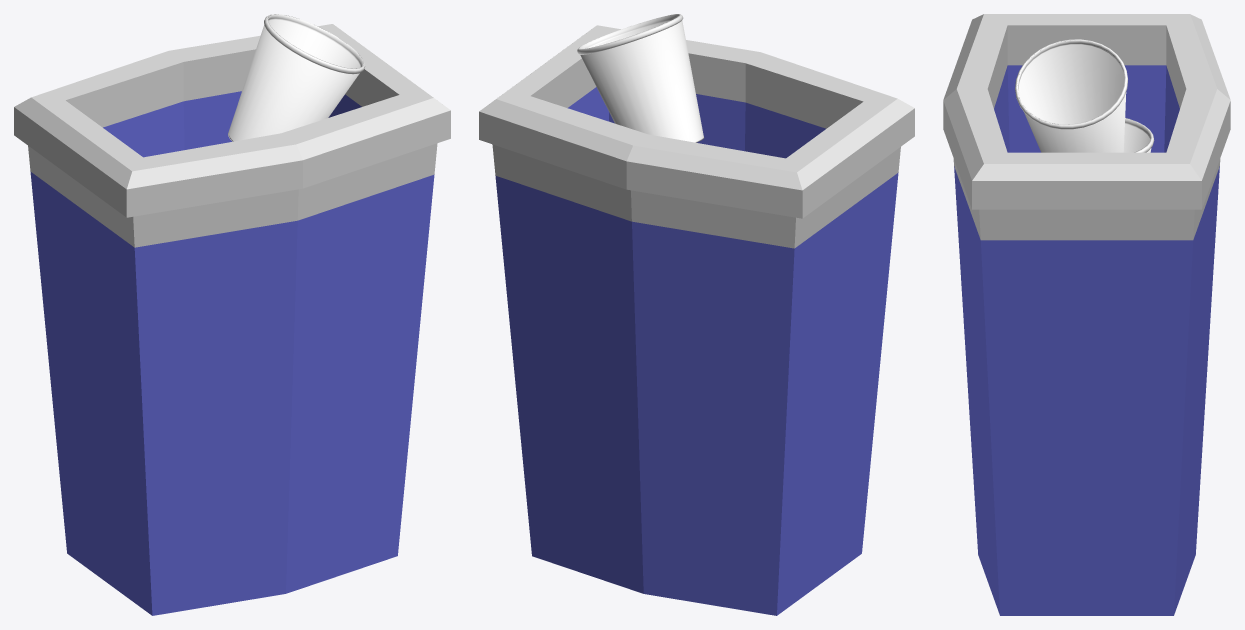
The model's file is bin.glb.
3 renders of one model, left to right at view 1: azimuth 30°, elevation 25°; view 2: azimuth 150°, elevation 25°; view 3: azimuth 270°, elevation 25°, orthographic. The views are drawn at different scales.
Parts seen in each view (by area): view 1: Bin, Gobelet.008; view 2: Bin, Gobelet.008; view 3: Bin, Gobelet.008, Gobelet.005.
Part boxes in pixels (x1=…): Bin: x1=14, y1=24, x2=450, y2=615; Gobelet.008: x1=228, y1=14, x2=365, y2=141; Bin: x1=479, y1=25, x2=914, y2=615; Gobelet.008: x1=577, y1=14, x2=704, y2=142; Bin: x1=943, y1=14, x2=1230, y2=615; Gobelet.008: x1=1015, y1=39, x2=1127, y2=152; Gobelet.005: x1=1123, y1=118, x2=1154, y2=152.
Size of the model in its own units: 0.7019 by 1.08 by 0.5289.
